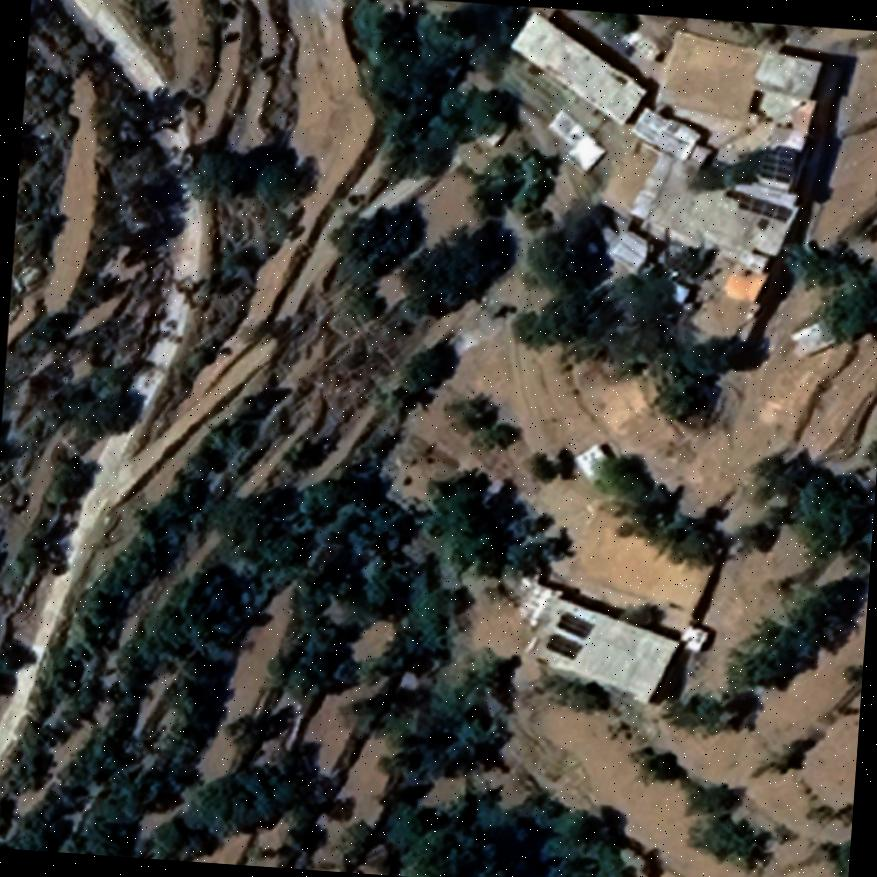Solarpanel: (723, 186, 795, 231), (753, 140, 799, 184), (550, 606, 598, 640), (540, 628, 587, 662)
